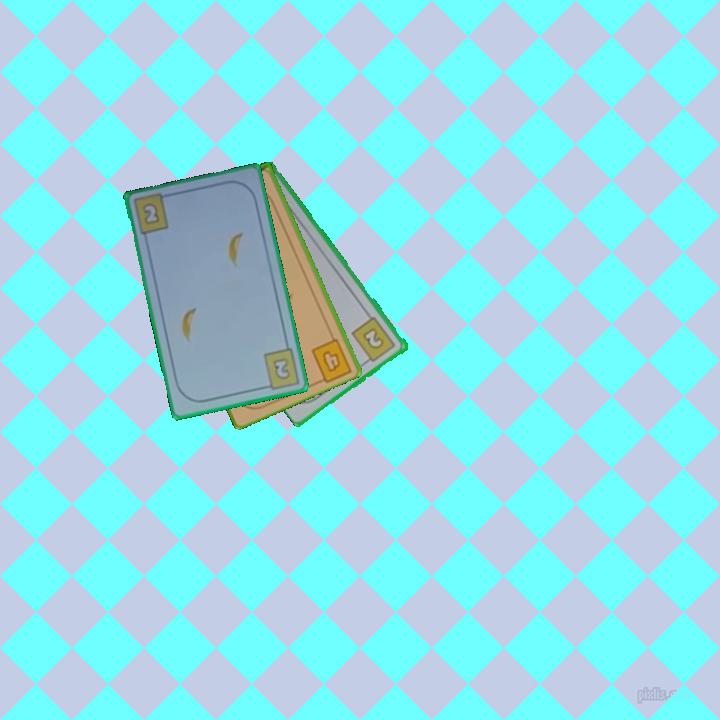2b: (348, 313, 399, 367), (259, 344, 302, 392), (139, 199, 163, 228)
4b: (319, 347, 344, 375)
